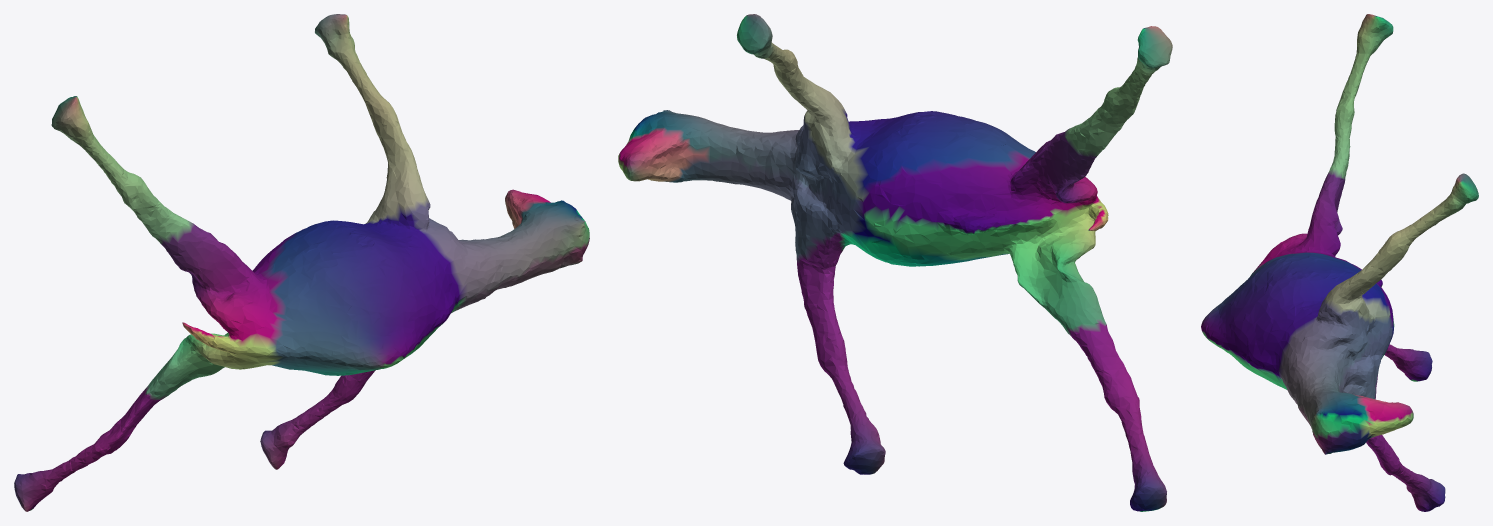
The model's file is camel-15.off.obj.
The picture shows the model from 3 angles, left to right: view 1: azimuth 30°, elevation 25°; view 2: azimuth 150°, elevation 25°; view 3: azimuth 270°, elevation 25°; orthographic projection. The views are drawn at different scales.
Size of the model in its own units: 1.47 by 1.2 by 0.7582.
